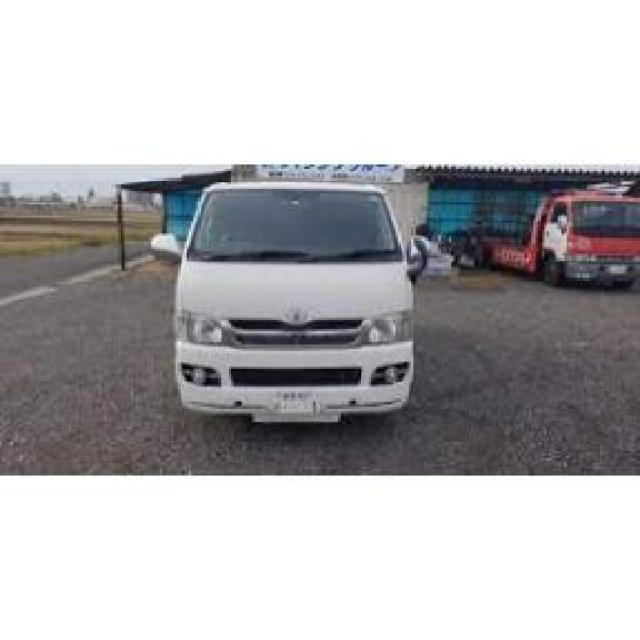Van: (164, 167, 432, 424)
